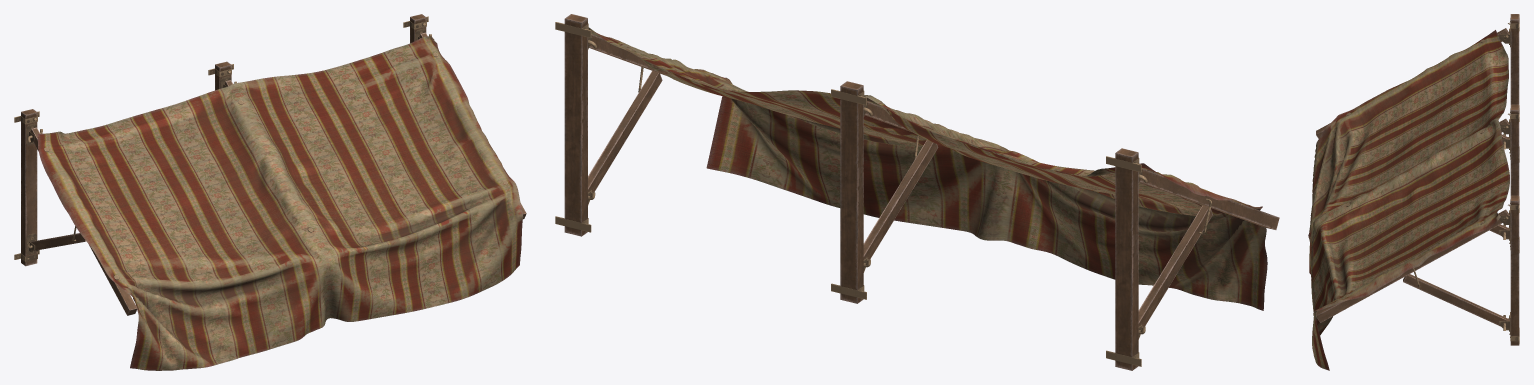
3 renders of one model, left to right at view 1: azimuth 30°, elevation 25°; view 2: azimuth 150°, elevation 25°; view 3: azimuth 270°, elevation 25°, orthographic. The views are drawn at different scales.
Parts seen in each view (by area): view 1: tarp, wood; view 2: tarp, wood; view 3: tarp, wood.
Part boxes in pixels (x1,y1,x2,y2): tarp: (37,36,523,370); wood: (14,14,526,315); tarp: (588,27,1267,310); wood: (555,14,1279,370); tarp: (1308,30,1509,370); wood: (1316,14,1519,345).
Size of the model in its own units: 10.33 by 4.64 by 4.77.
Materials: 2 (2 with a texture image).
